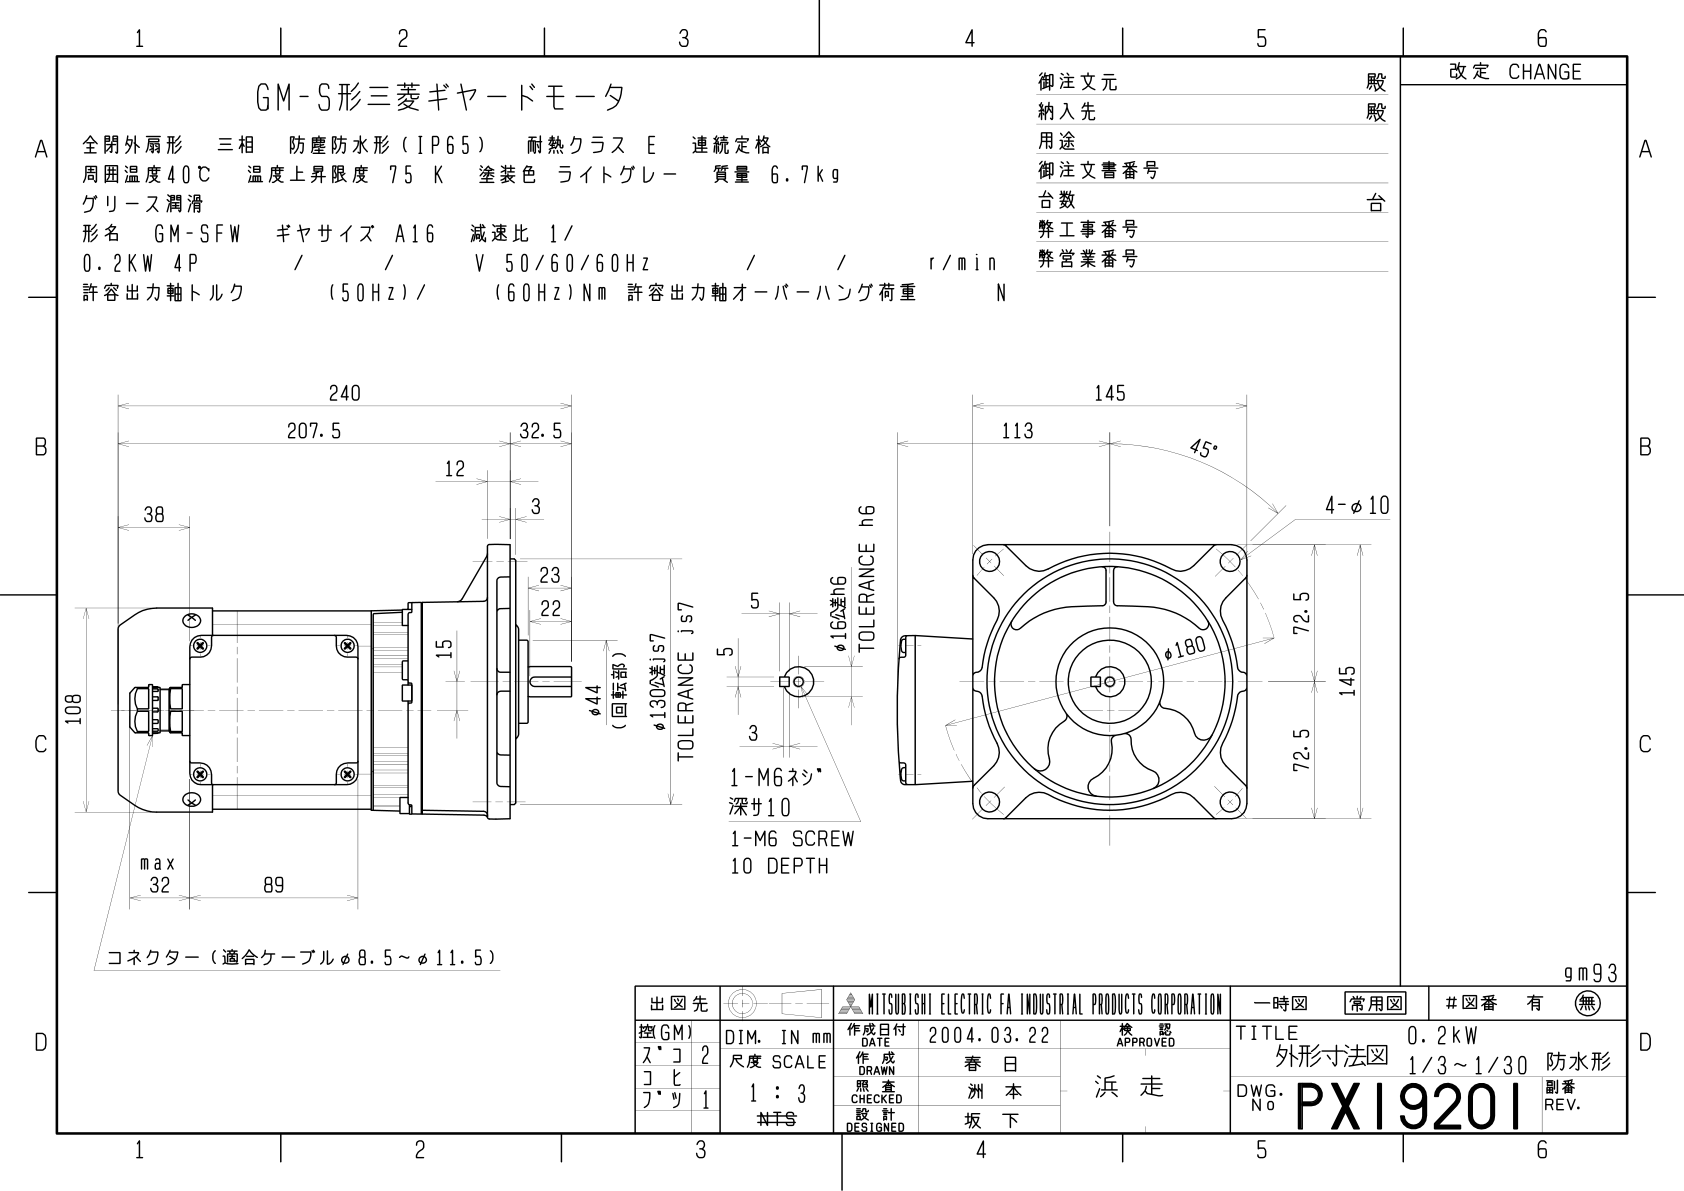GM_S_IP65＿三相_フランジ: (58, 343, 1389, 971)
